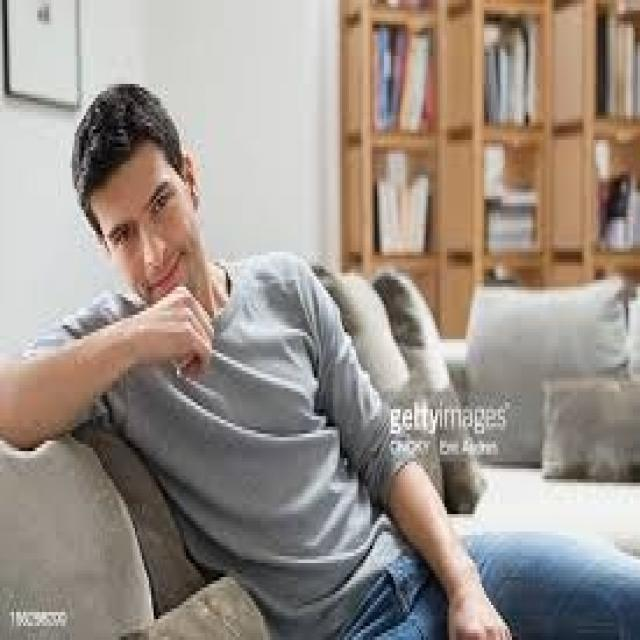sitting: (4, 63, 640, 640)
